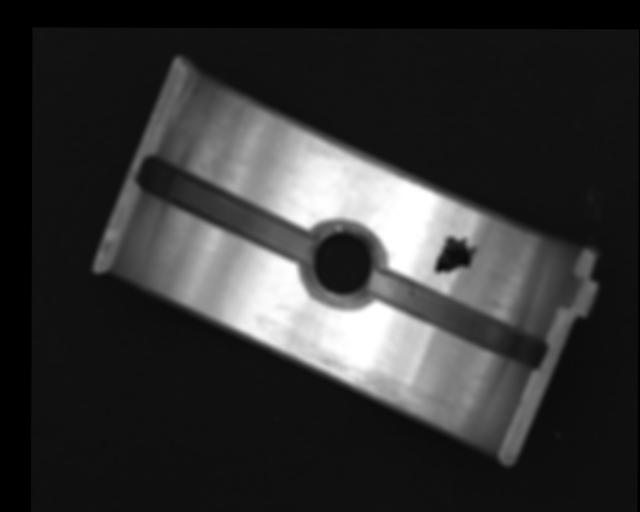blot: (434, 235, 480, 276)
gap: (139, 158, 312, 261), (370, 273, 546, 369)
hole: (300, 221, 383, 310)
scratch: (292, 351, 458, 431)
